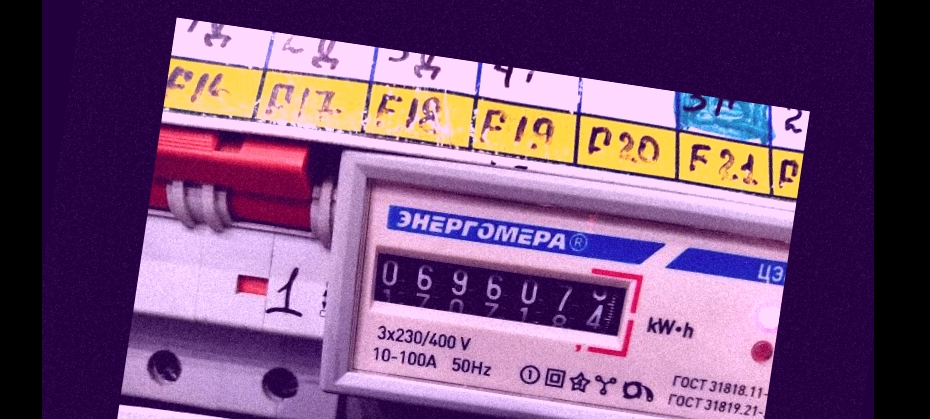0: (377, 255, 403, 288), (518, 275, 541, 306)
4: (582, 300, 605, 331)
6: (482, 270, 507, 303), (413, 260, 436, 292)
7: (553, 279, 575, 312)
9: (448, 266, 472, 297)
screen: (354, 227, 648, 359)
